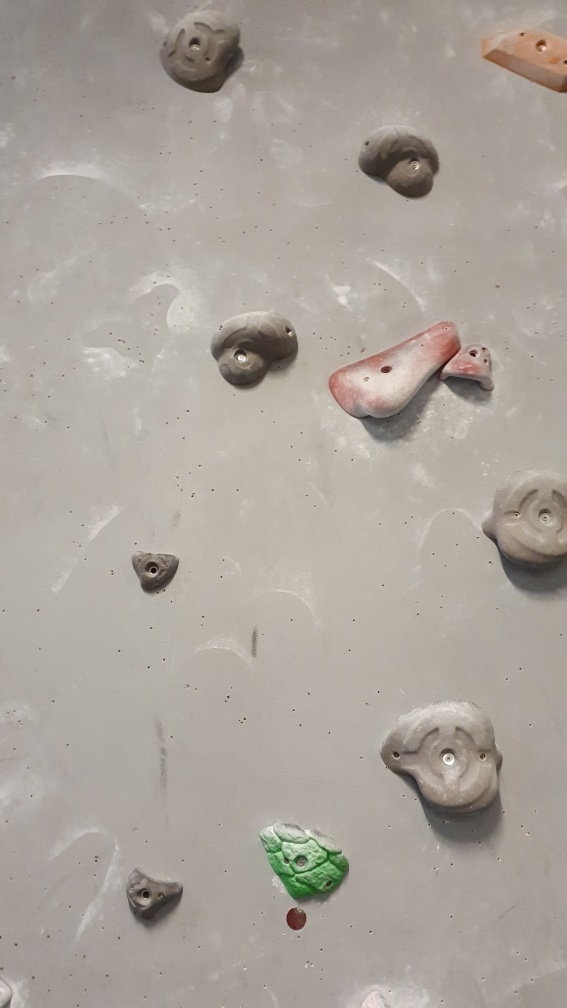Crimp: (126, 548, 180, 593)
Hand Start: (286, 905, 308, 932)
Jug: (375, 695, 506, 821), (484, 467, 567, 574), (210, 309, 300, 390), (158, 9, 243, 94), (355, 122, 441, 201)
